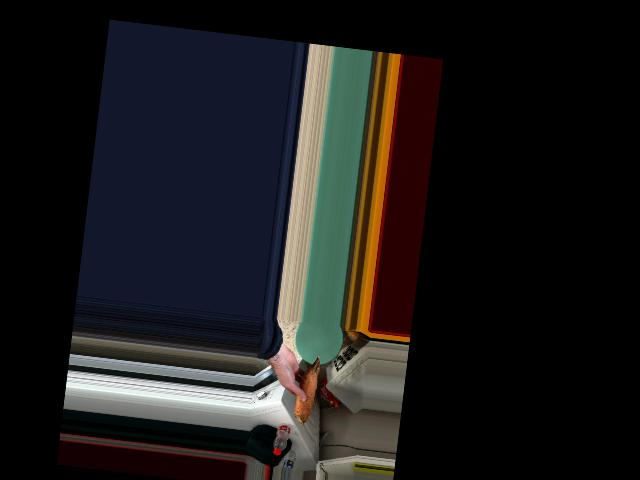sweet_potato: (295, 351, 322, 427)
